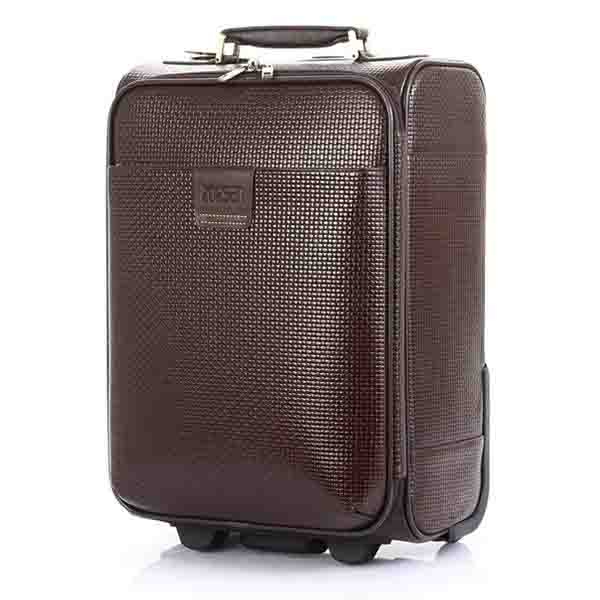luggage: (100, 23, 494, 566)
